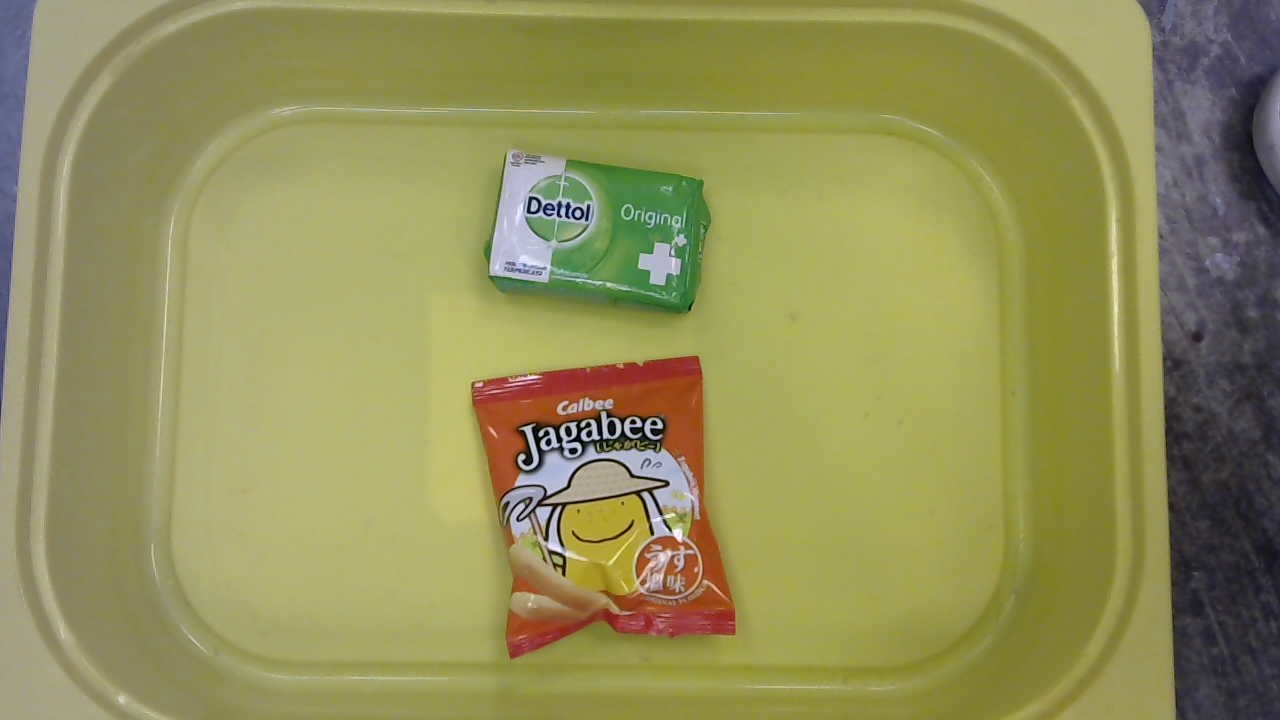Dettol: (477, 143, 713, 319)
JagabeeFarmer: (459, 352, 751, 661)
